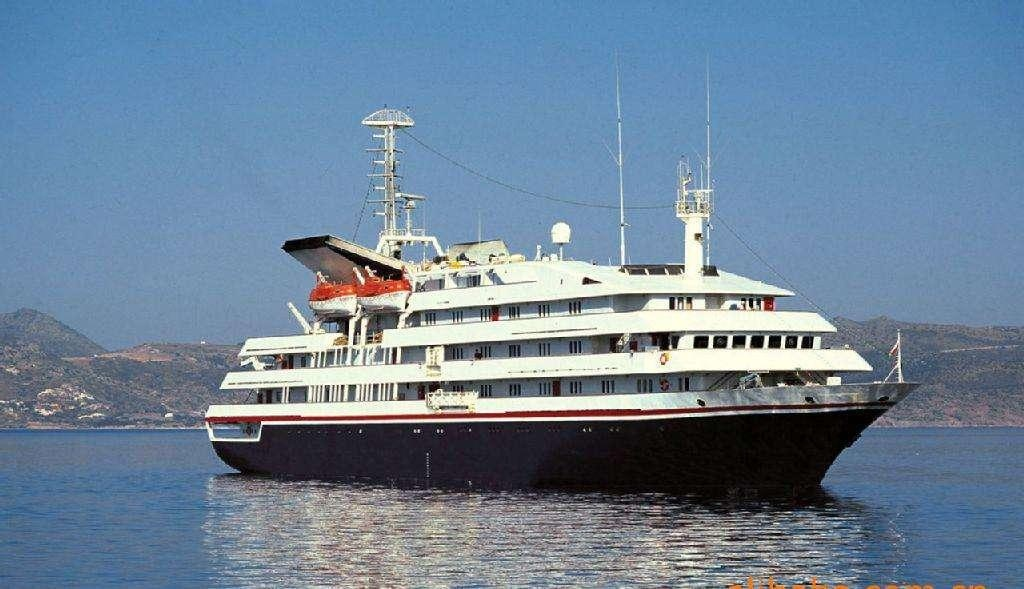youlun: (199, 88, 931, 477)
